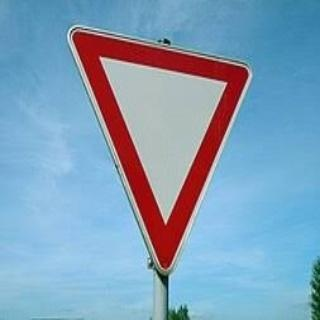sign_yield: (64, 45, 249, 266)
